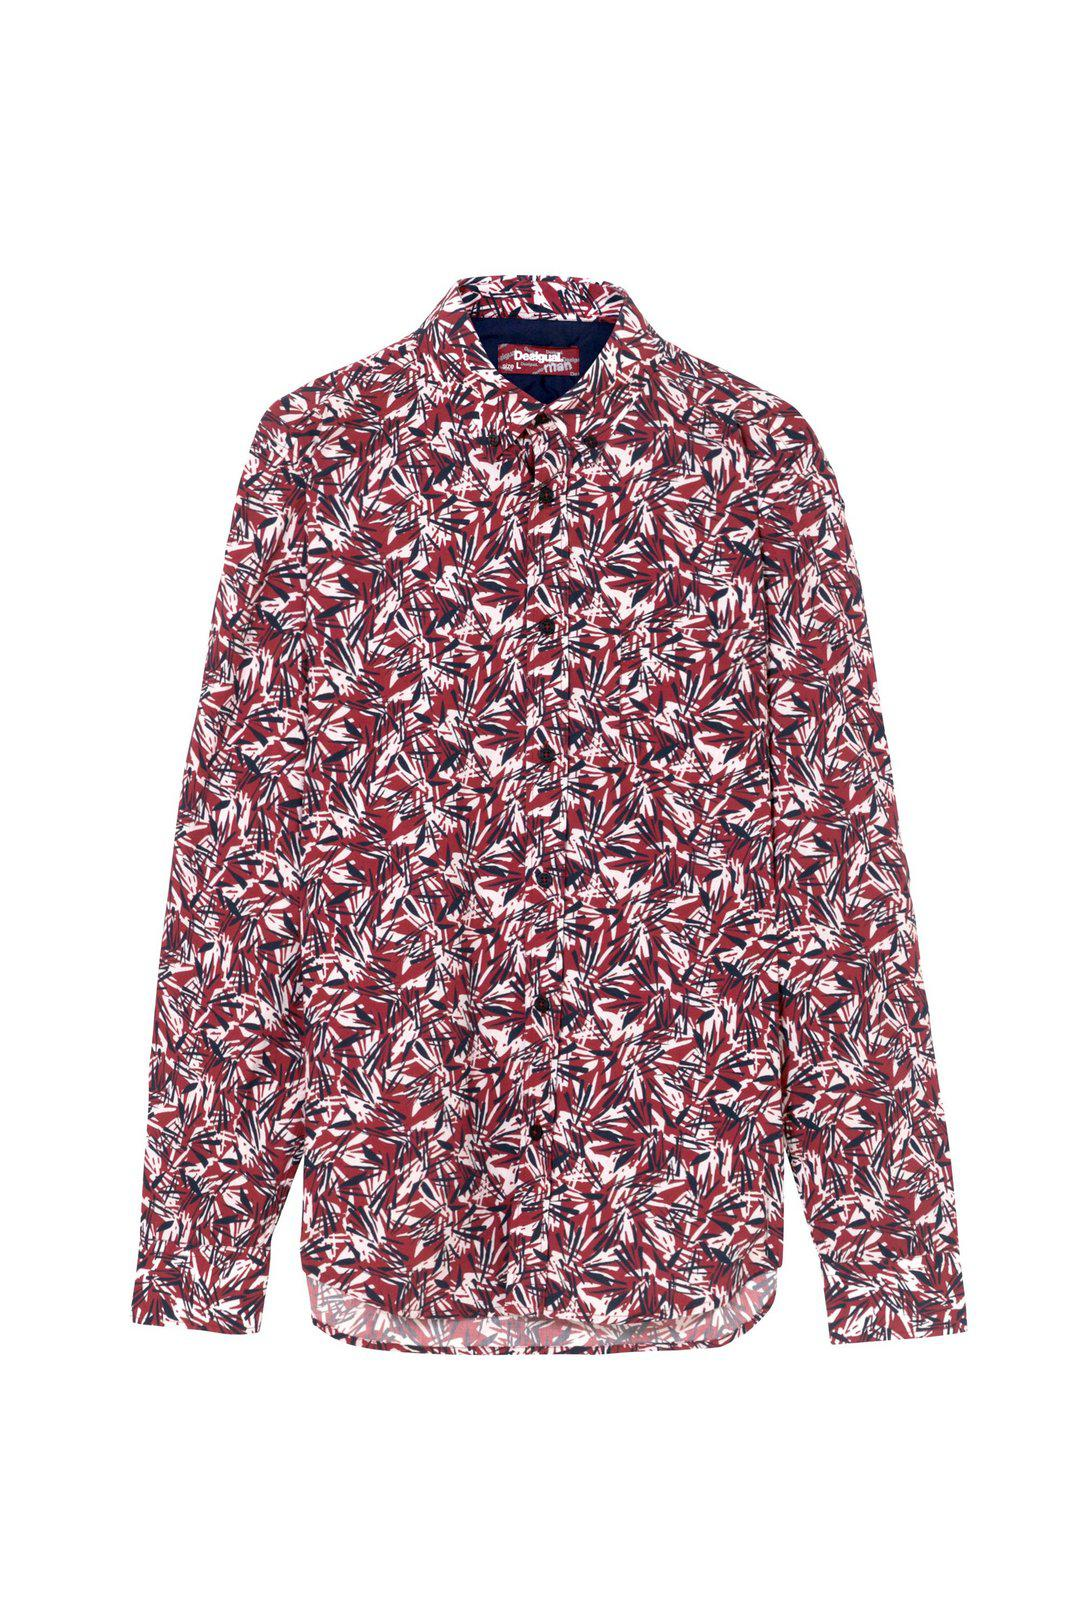teeshirt: (128, 270, 968, 1390)
